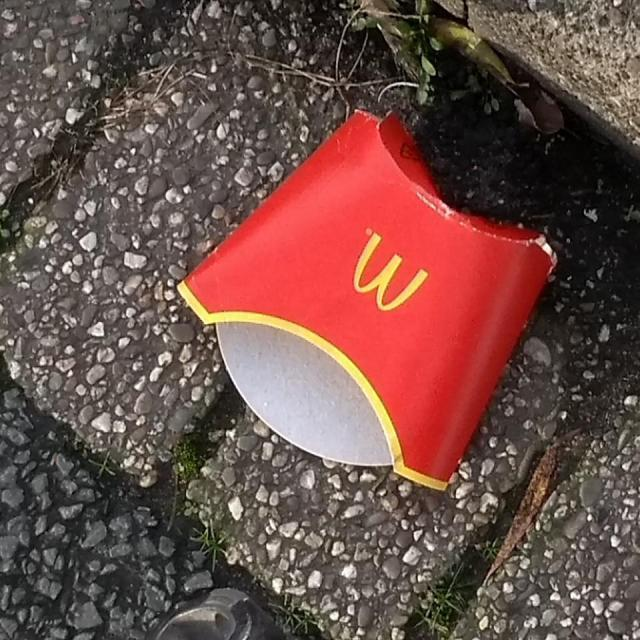Paper: (172, 103, 563, 496)
